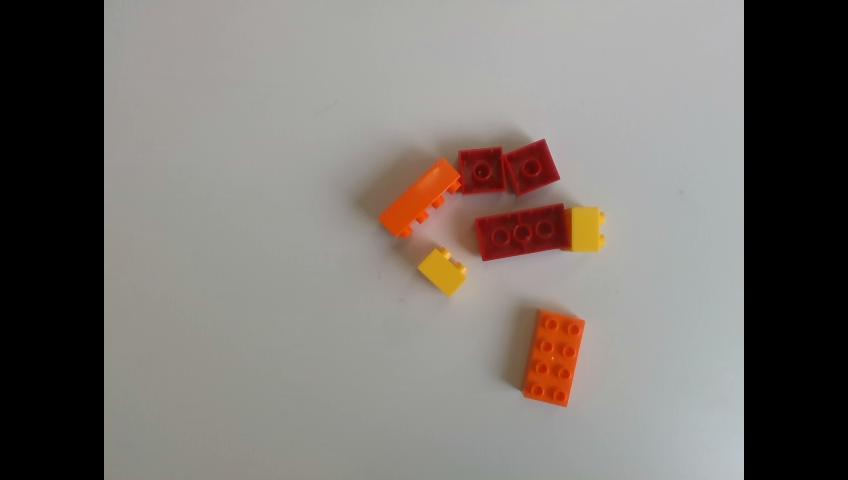2x2_red: (504, 140, 559, 196), (460, 146, 505, 192)
2x2_yellow: (417, 247, 468, 299), (561, 208, 605, 253)
4x2_orange: (378, 157, 464, 239), (520, 309, 587, 407)
4x2_red: (476, 203, 569, 263)
